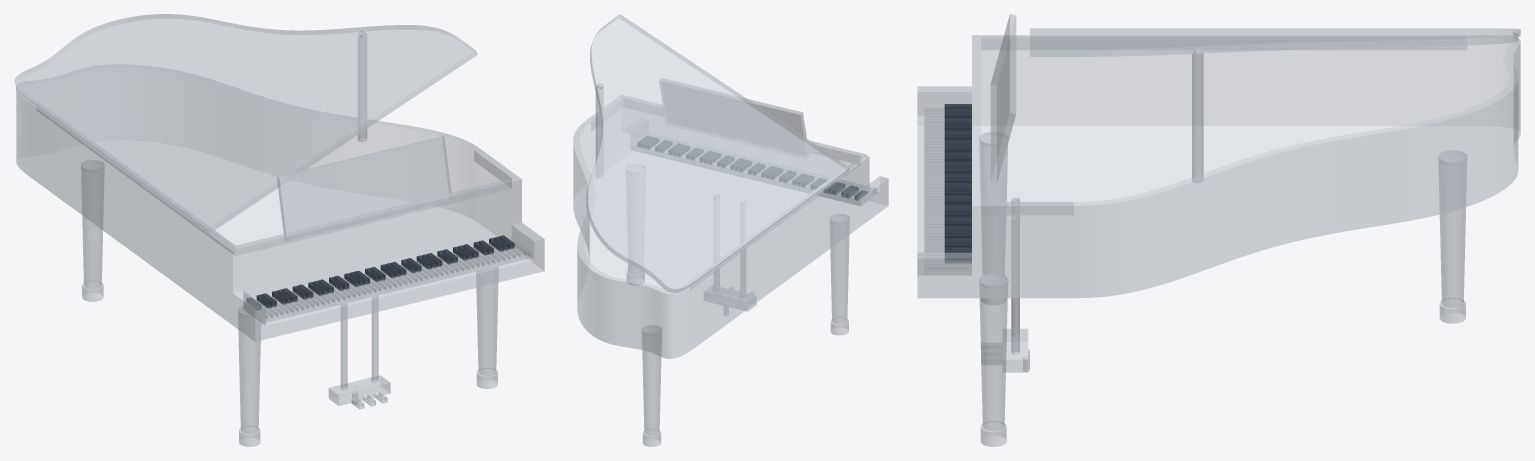
The model's file is crystal_piano.glb.
The picture shows the model from 3 angles, left to right: view 1: azimuth 30°, elevation 25°; view 2: azimuth 150°, elevation 25°; view 3: azimuth 270°, elevation 25°; orthographic projection. The views are drawn at different scales.
Parts seen in each view (by area): view 1: crystal_piano (×2); view 2: crystal_piano (×2); view 3: crystal_piano (×2).
Boxes of the visible parts, box(x1,y1,x2,y2) form: crystal_piano (×2): box(14, 14, 544, 446); crystal_piano (×2): box(573, 14, 888, 446); crystal_piano (×2): box(917, 14, 1520, 446).
Size of the model in its own units: 0.1125 by 0.1193 by 0.1657.
